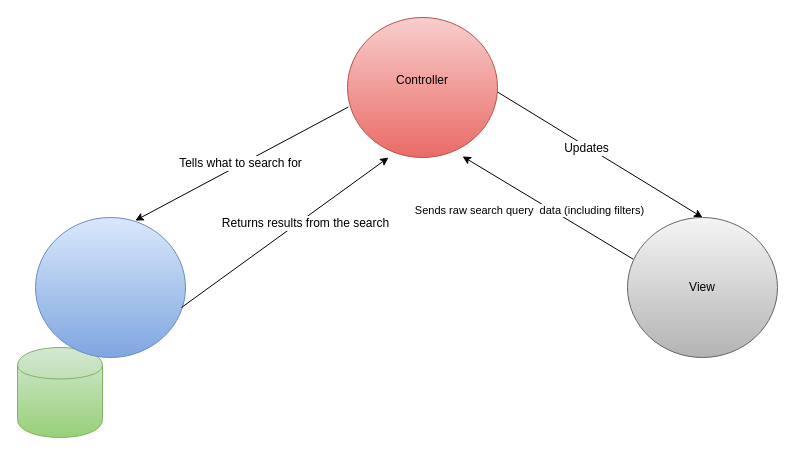
Image size: 795x455. Some labels were removed from this diagram. Each missing label, with the box of its shape:
Model: (34, 216, 186, 358)
Results Data GitHub Repo: (16, 346, 102, 438)
